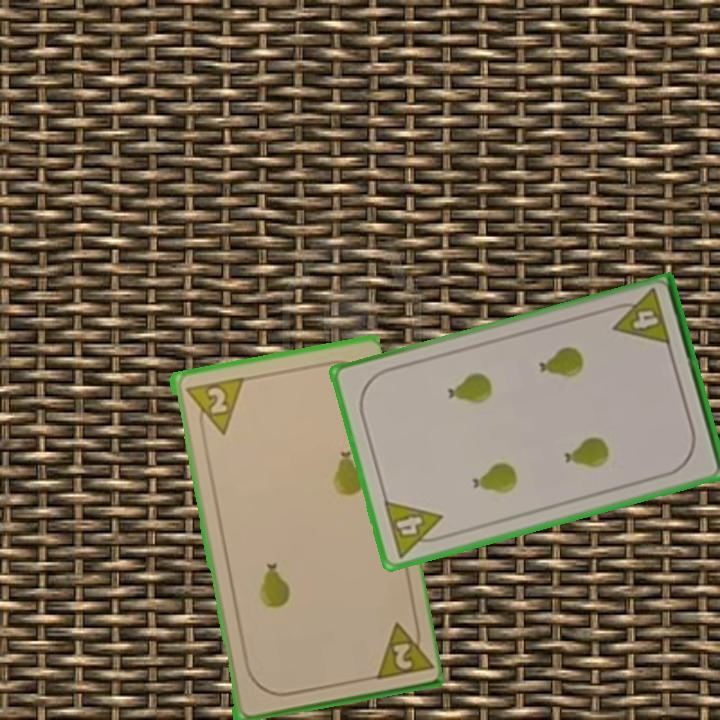2p: (367, 615, 432, 682), (181, 373, 245, 440)
4p: (380, 497, 450, 561), (605, 285, 674, 349)
